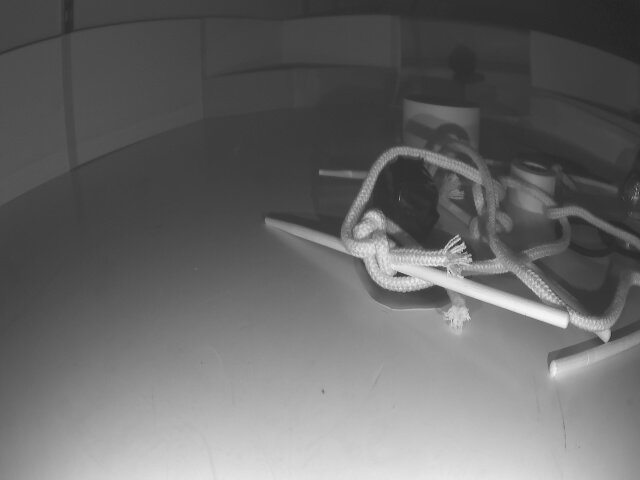Dead: (370, 156, 437, 243)
Point: (205, 58, 395, 116), (530, 86, 640, 166)
